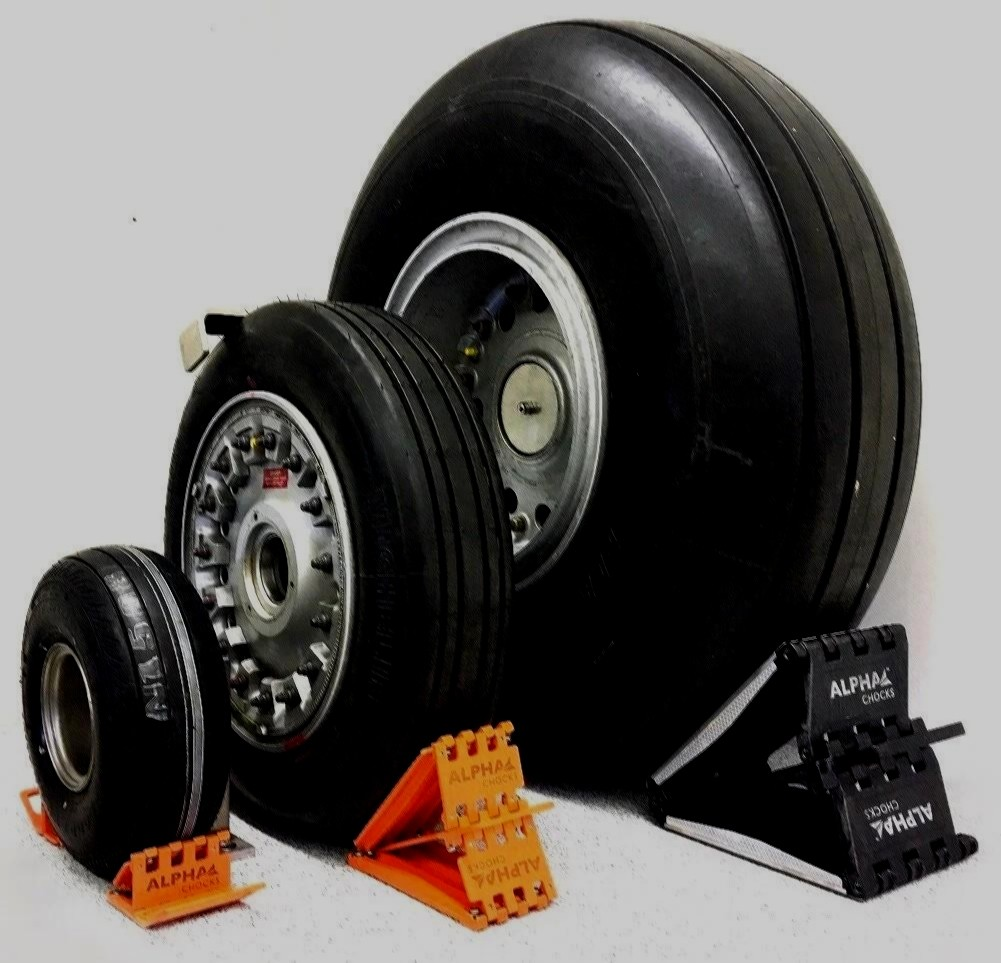chock: (636, 619, 983, 904), (343, 721, 562, 931), (105, 825, 266, 935)
wheel: (323, 14, 921, 791), (166, 303, 502, 823), (19, 546, 236, 879)
